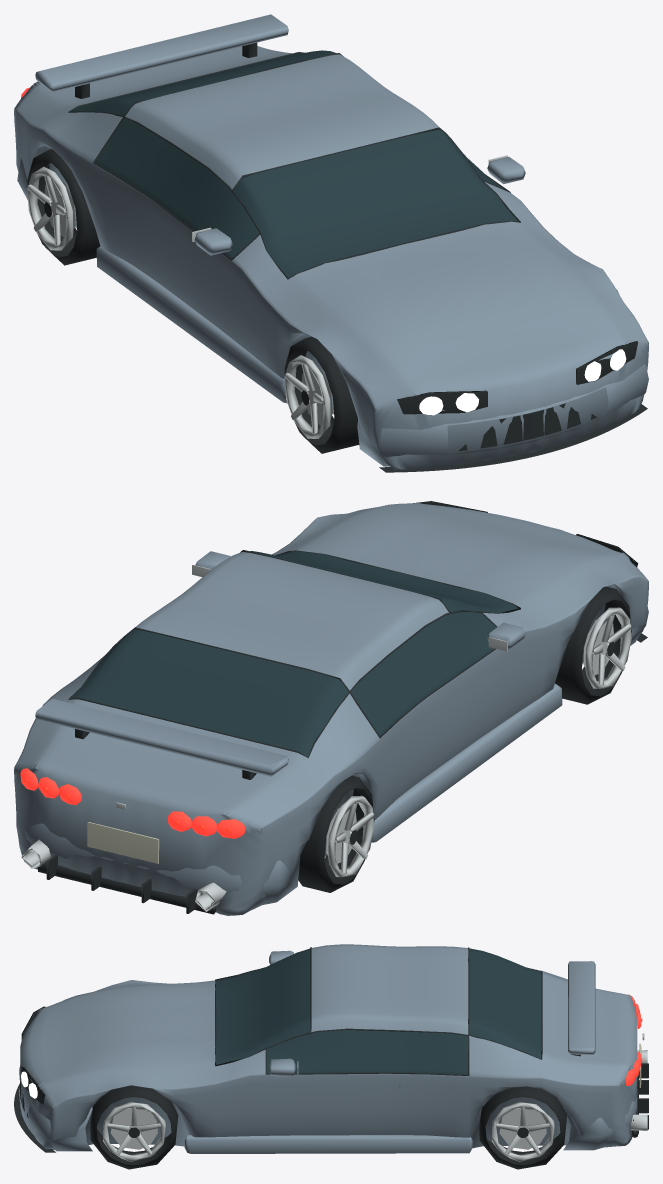
The model's file is arqessa-omvyr.glb.
3 views of the same model, one above another, from view 1: azimuth 30°, elevation 25°; view 2: azimuth 150°, elevation 25°; view 3: azimuth 270°, elevation 25° (orthographic). The views are drawn at different scales.
Visible parts, largest first — view 1: scocca, cofano, cristallo_ant, tetto, porta_sx, cristallo_sx, spoiler, minigonna_sx, portellone, paraurti_ant, ruota_ant_sx_gomma, ruota_post_sx_gomma (+15 smaller); view 2: scocca, tetto, cristallo_post, cofano, portellone, porta_sx, cristallo_sx, spoiler, minigonna_sx, cristallo_ant, paraurti_post, ruota_ant_sx_gomma (+11 smaller); view 3: scocca, cofano, porta_dx, tetto, cristallo_ant, cristallo_dx, cristallo_post, portellone, minigonna_dx, spoiler, ruota_ant_dx_gomma, ruota_post_dx_gomma (+13 smaller).
Part boxes in pixels (x1,y1,x2,y2): scocca: (14, 46, 648, 469); cofano: (288, 221, 622, 385); cristallo_ant: (233, 129, 518, 278); tetto: (125, 54, 440, 189); porta_sx: (93, 164, 247, 350); cristallo_sx: (95, 118, 259, 258); spoiler: (35, 14, 288, 92); minigonna_sx: (96, 246, 287, 403); portellone: (29, 46, 291, 112); paraurti_ant: (357, 364, 648, 466); ruota_ant_sx_gomma: (284, 337, 359, 453); ruota_post_sx_gomma: (27, 149, 100, 265); scocca: (14, 503, 648, 915); tetto: (135, 551, 448, 690); cristallo_post: (70, 629, 348, 757); cofano: (292, 503, 622, 608); portellone: (29, 699, 307, 818); porta_sx: (374, 642, 521, 820); cristallo_sx: (351, 611, 496, 736); spoiler: (35, 699, 288, 776); minigonna_sx: (371, 683, 562, 842); cristallo_ant: (250, 551, 518, 612); paraurti_post: (24, 823, 300, 905); ruota_ant_sx_gomma: (555, 586, 631, 704); scocca: (20, 970, 637, 1149); cofano: (43, 980, 215, 1086); porta_dx: (250, 1073, 468, 1137); tetto: (311, 944, 468, 1034); cristallo_ant: (216, 948, 310, 1064); cristallo_dx: (266, 1030, 468, 1074); cristallo_post: (469, 948, 541, 1059); portellone: (542, 972, 637, 1070); minigonna_dx: (184, 1135, 472, 1153); spoiler: (568, 961, 595, 1054); ruota_ant_dx_gomma: (90, 1085, 178, 1169); ruota_post_dx_gomma: (479, 1086, 566, 1169).
Size of the model in its own units: 2.12 by 1.16 by 4.87.
